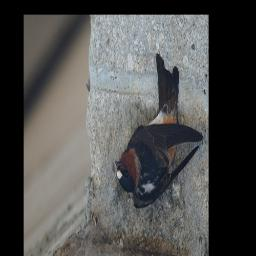Swallow: (114, 54, 204, 212)
